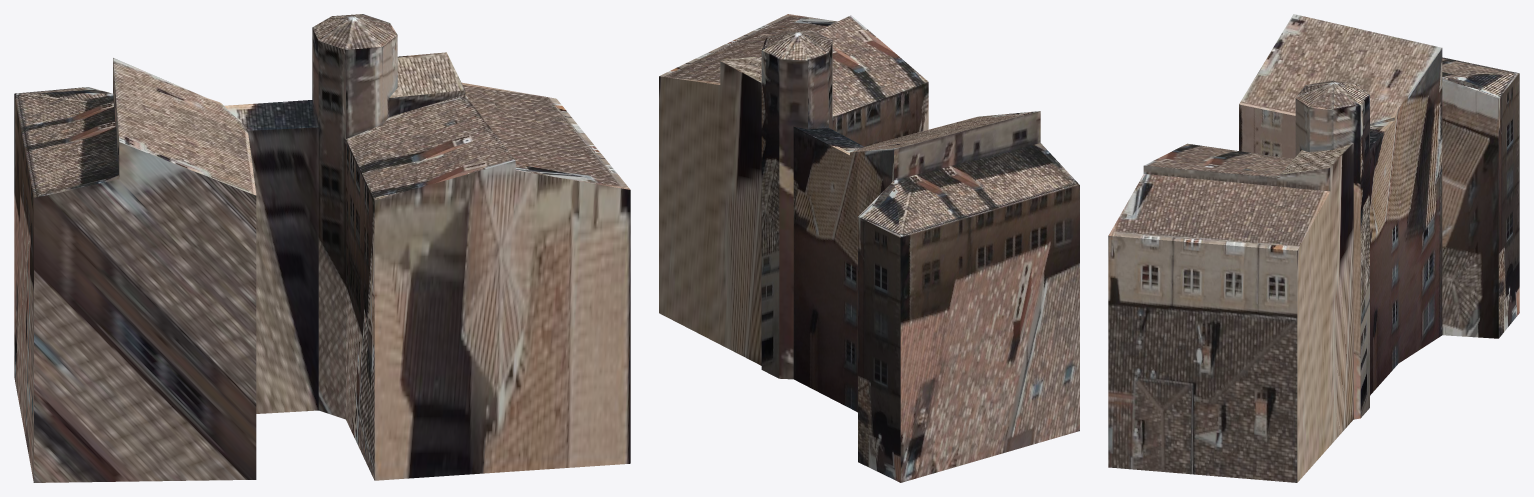
The picture shows the model from 3 angles, left to right: view 1: azimuth 30°, elevation 25°; view 2: azimuth 150°, elevation 25°; view 3: azimuth 270°, elevation 25°; orthographic projection. The views are drawn at different scales.
Parts seen in each view (by area): view 1: Z_UP; view 2: Z_UP; view 3: Z_UP.
Boxes of the visible parts, bbox=[...] form: Z_UP: bbox=[14, 14, 630, 482]; Z_UP: bbox=[659, 14, 1079, 482]; Z_UP: bbox=[1108, 14, 1519, 482].
Bounding box in the file's own units: 36.4 × 26.51 × 30.34.
Materials: 2 (1 with a texture image).
